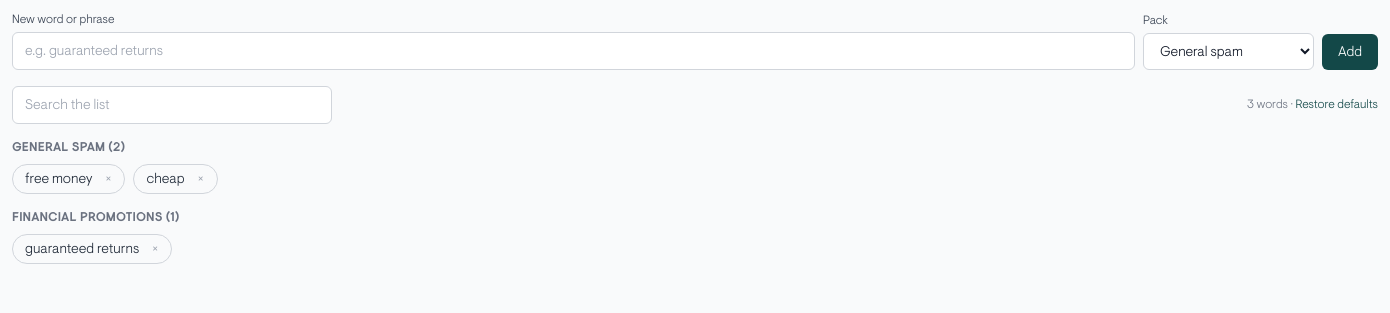
Test: SpamWordListEditor › says why a term cannot be added
Type "FREE money" into the field labelled "New word or phrase".
click(574, 51); type("FREE money")  # box x1=12 y1=32 x2=1135 y2=70
Then press Enter
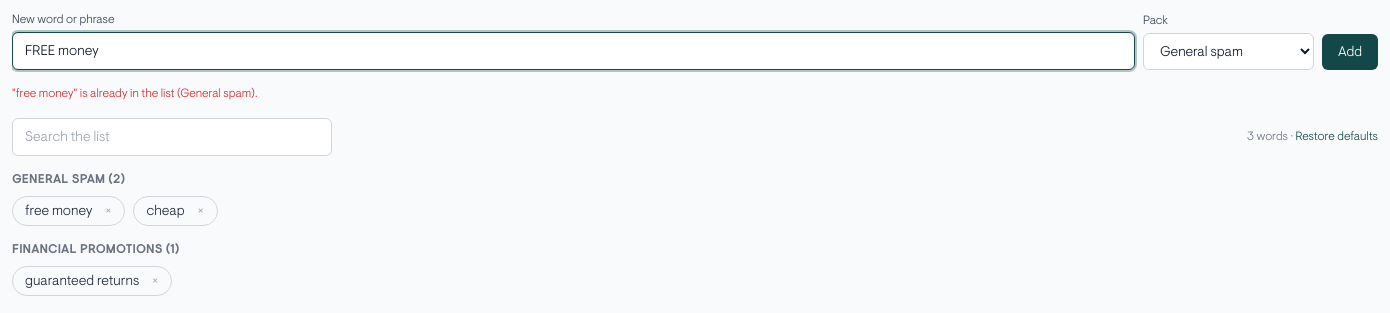
Result: the message shows "already in the list" at x1=12 y1=86 x2=258 y2=101
Clear the field labelled "New word or phrase" at (574, 51), box x1=12 y1=32 x2=1135 y2=70
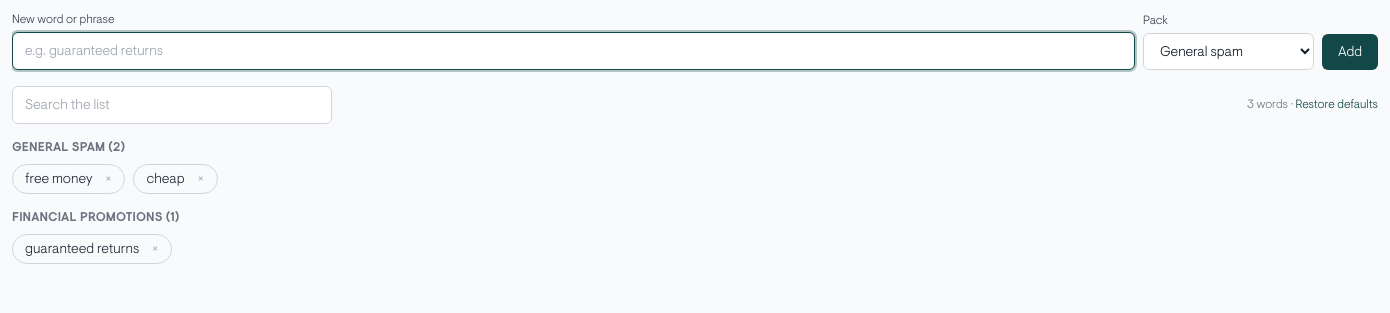
Click the button "Add".
click(1350, 52)  # box x1=1322 y1=34 x2=1378 y2=70
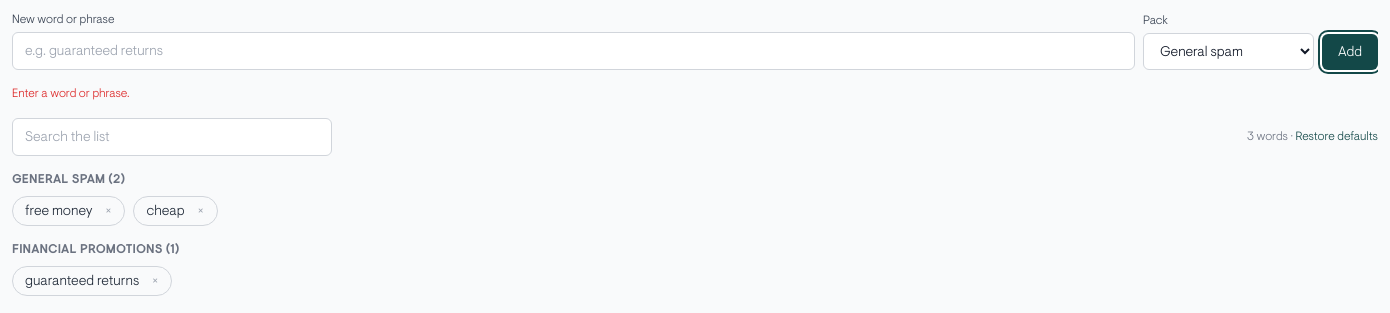
Result: the message reads "Enter a word or phrase." at x1=12 y1=86 x2=130 y2=101
